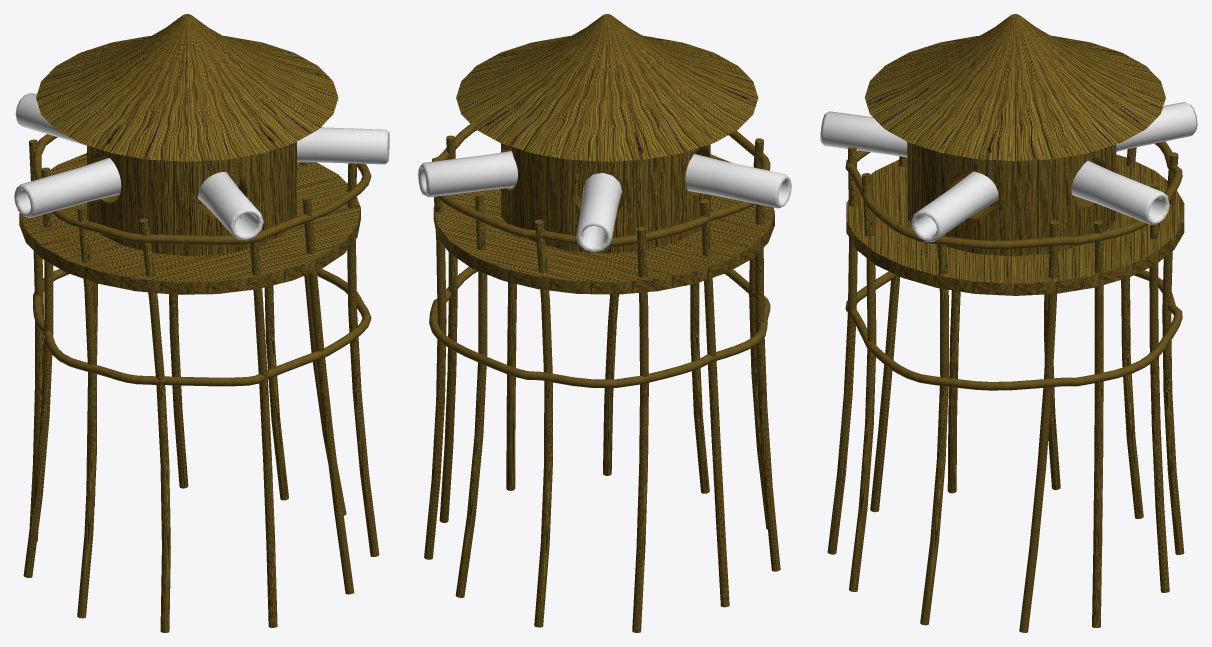
File: tower1.FBX
3 views of the same model, side by side, from view 1: azimuth 30°, elevation 25°; view 2: azimuth 150°, elevation 25°; view 3: azimuth 270°, elevation 25° (orthographic).
Visible parts, largest first — view 1: tower001, ChamferCyl014, ChamferCyl010, ChamferCyl006, ChamferCyl013; view 2: tower001, ChamferCyl014, ChamferCyl012, ChamferCyl013; view 3: tower001, ChamferCyl012, ChamferCyl010, ChamferCyl006, ChamferCyl013.
Boxes of the visible parts, box(x1,y1,x2,y2) form: tower001: box(19, 14, 379, 632); ChamferCyl014: box(14, 157, 121, 217); ChamferCyl010: box(297, 127, 389, 164); ChamferCyl006: box(198, 171, 263, 240); ChamferCyl013: box(15, 93, 86, 145); tower001: box(424, 14, 780, 632); ChamferCyl014: box(685, 154, 791, 208); ChamferCyl012: box(418, 151, 517, 197); ChamferCyl013: box(576, 173, 622, 252); tower001: box(827, 14, 1184, 632); ChamferCyl012: box(1071, 160, 1169, 224); ChamferCyl010: box(911, 171, 998, 241); ChamferCyl006: box(820, 111, 907, 157); ChamferCyl013: box(1116, 102, 1197, 151).
Size of the model in its own units: 1056 by 1650 by 1032.
